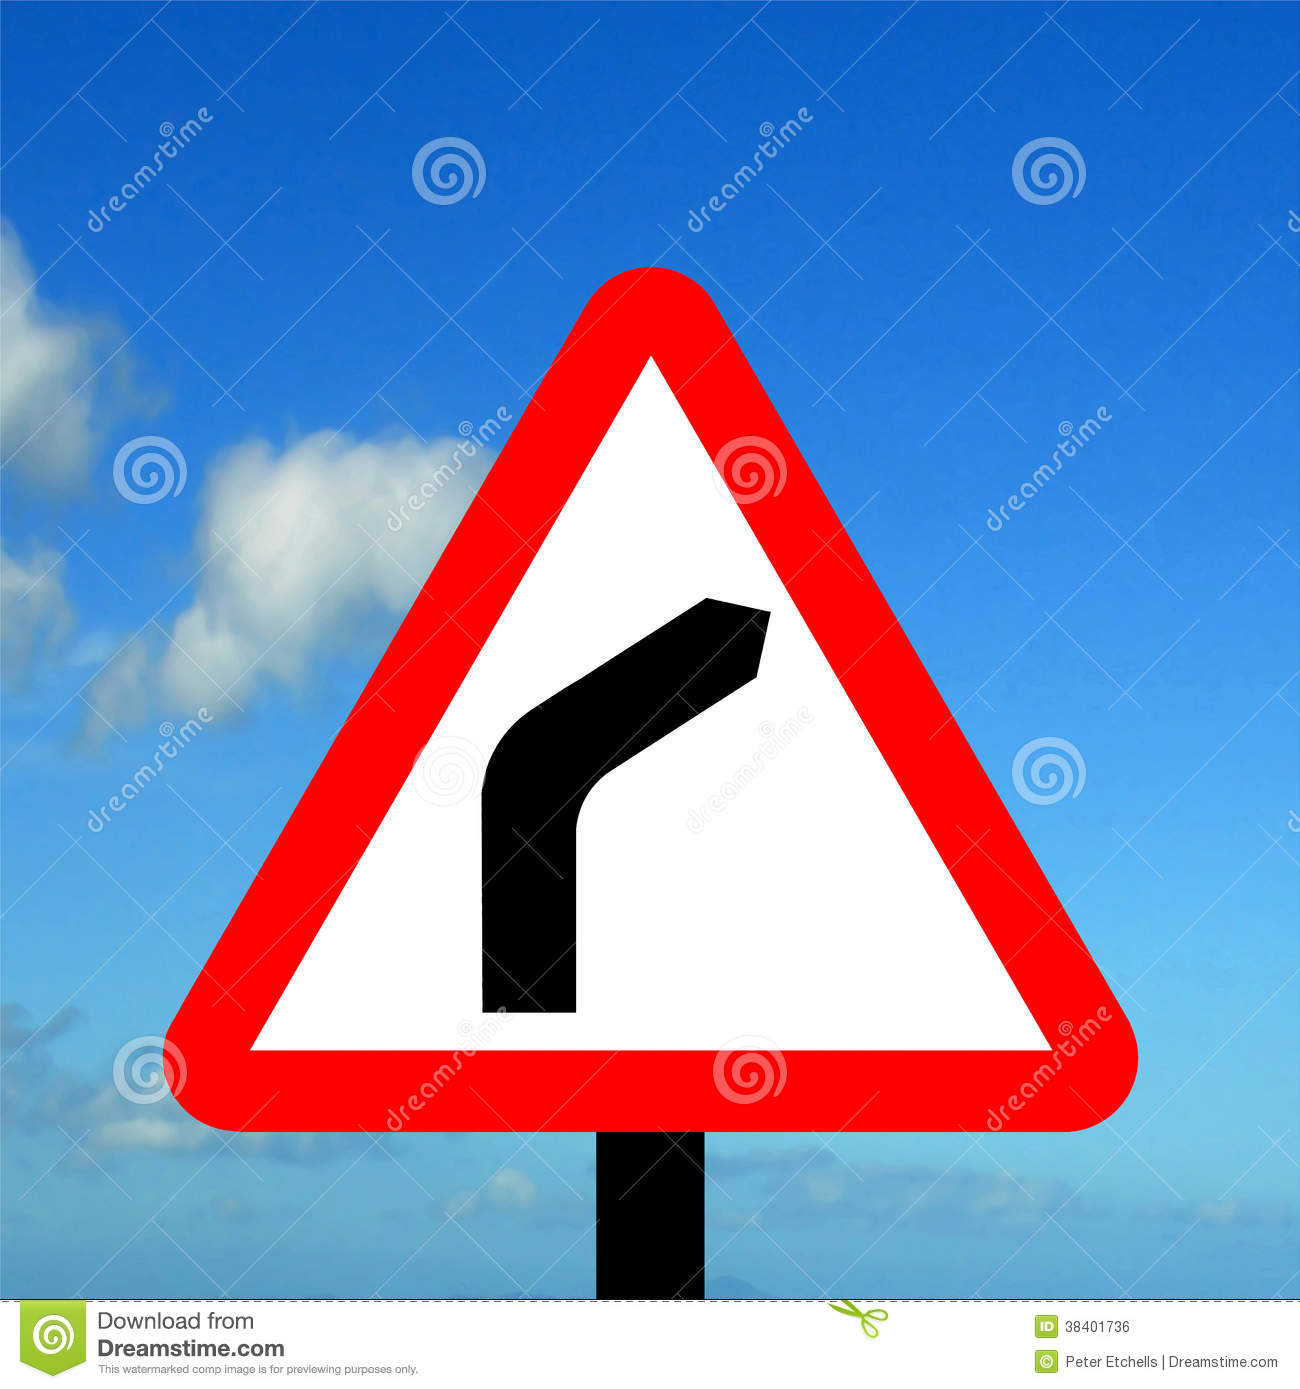Bend_to_right: (158, 258, 1144, 1148)
